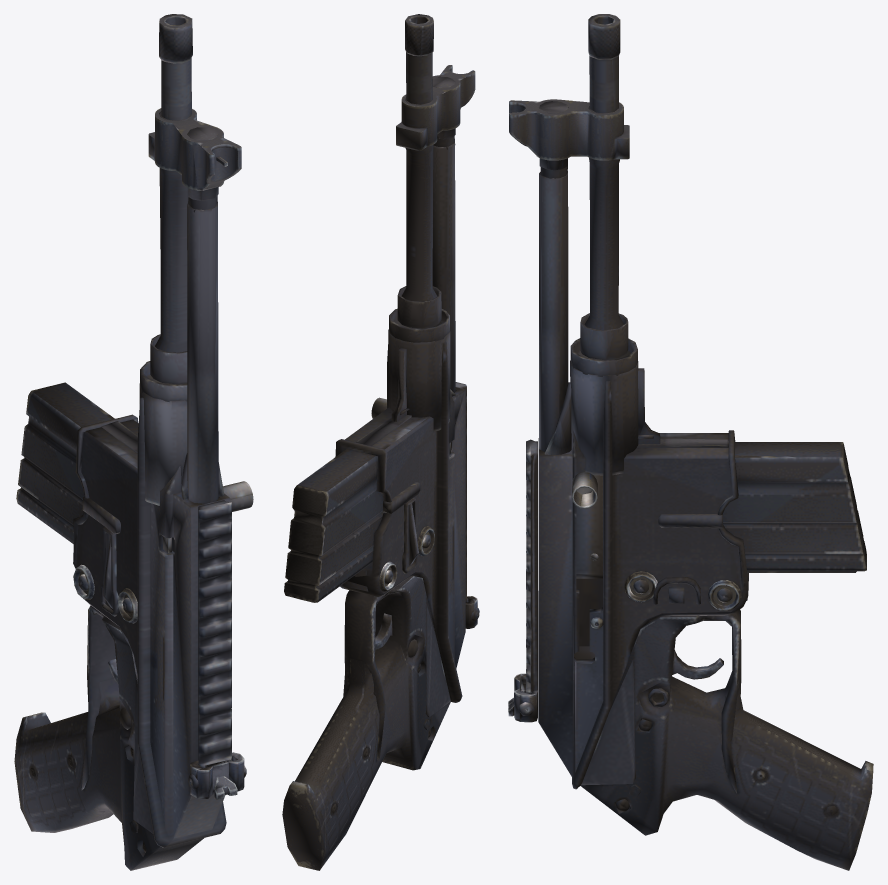
The model's file is PLR16.fbx.
3 renders of one model, left to right at view 1: azimuth 30°, elevation 25°; view 2: azimuth 150°, elevation 25°; view 3: azimuth 270°, elevation 25°, orthographic. The views are drawn at different scales.
Parts seen in each view (by area): view 1: plr16; view 2: plr16; view 3: plr16.
Part boxes in pixels (x1=…): plr16: x1=14, y1=14, x2=253, y2=870; plr16: x1=282, y1=14, x2=479, y2=870; plr16: x1=508, y1=14, x2=873, y2=870.
Bounding box in the file's own units: 0.0321 × 0.2891 × 0.1132.
